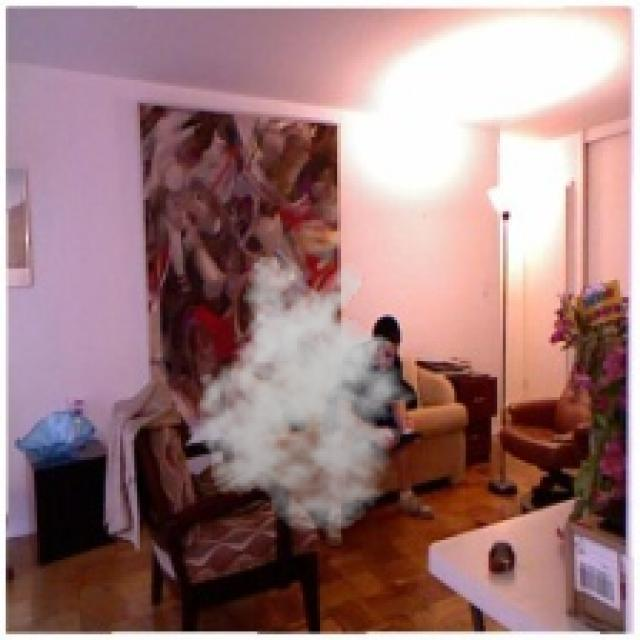Smoke: (182, 252, 428, 534)
